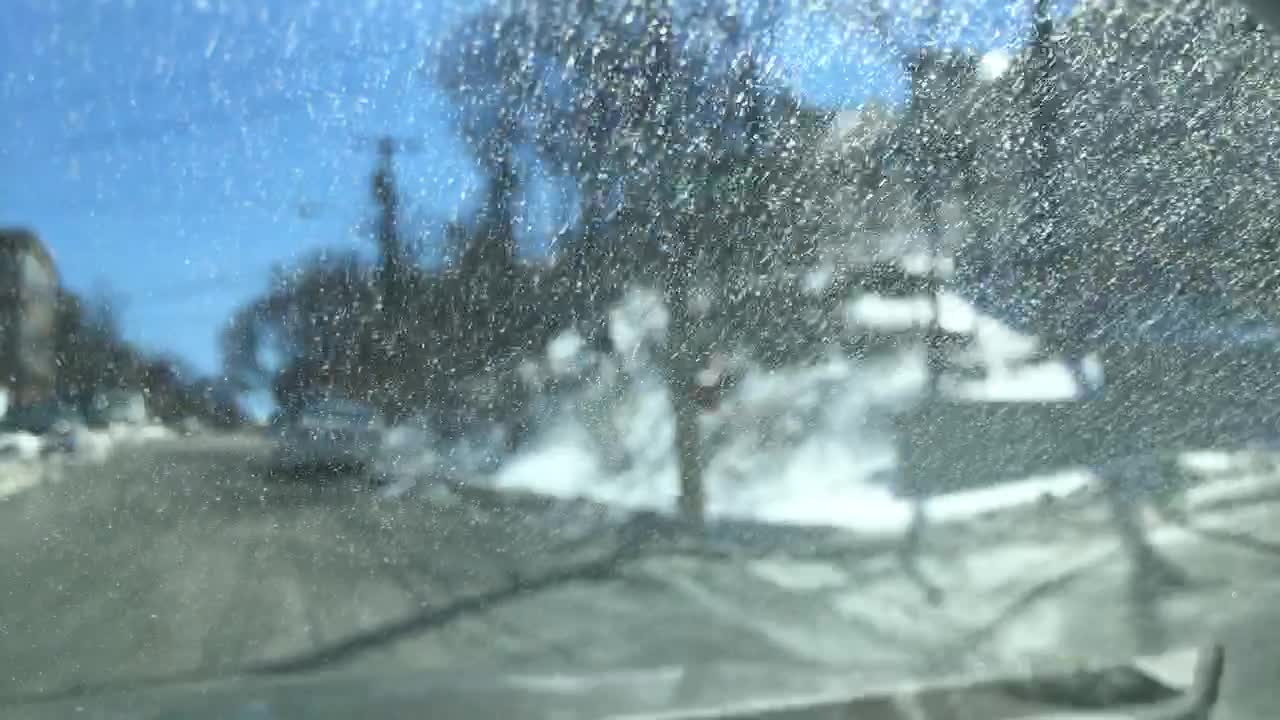car: (270, 397, 386, 476), (8, 395, 78, 448), (88, 384, 145, 427), (0, 417, 54, 459), (210, 397, 248, 431)
